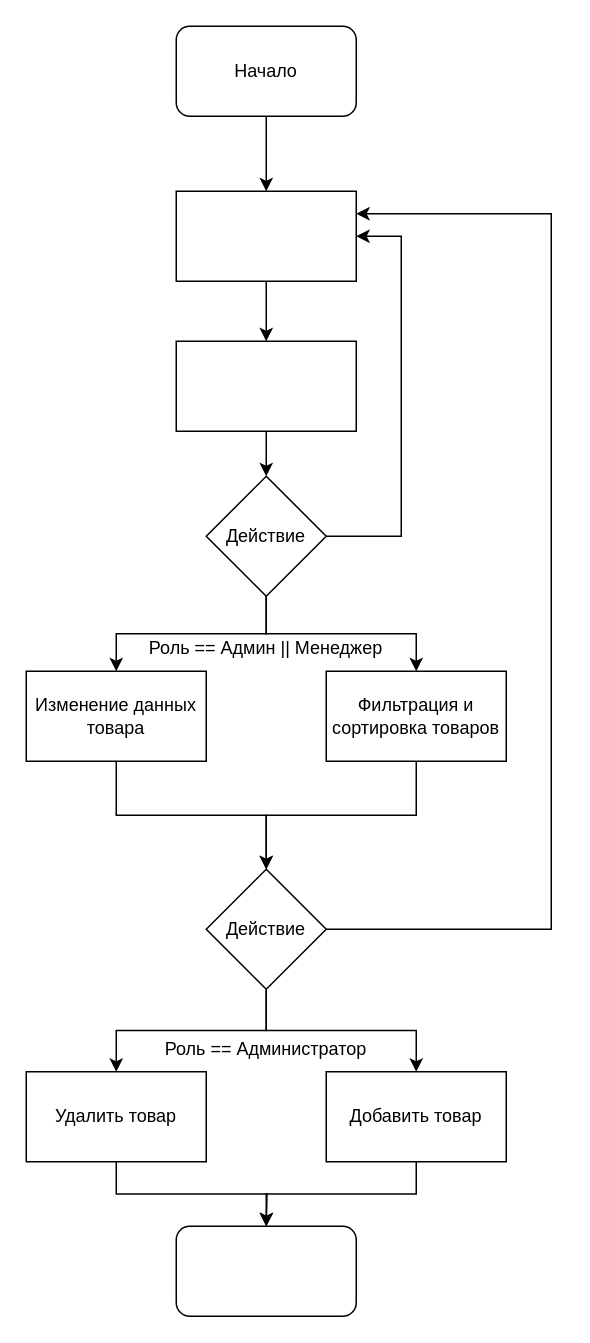
Some shapes in this 590 by 1343 pixel diagram are drawn without their labels. The box of each missing label's shape, as (x1, y1, x2, y2) in pixels:
Авторизация: (175, 190, 356, 281)
Конец: (175, 1225, 356, 1316)
Просмотр товаров: (175, 340, 356, 431)
